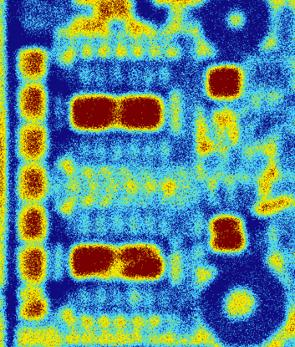Pad 1: (70, 94, 117, 131), (119, 94, 164, 131), (117, 243, 163, 279), (70, 243, 115, 279), (205, 65, 244, 101), (209, 214, 244, 252)
Pad 2: (18, 123, 47, 160), (18, 247, 46, 284), (18, 166, 47, 201), (19, 206, 46, 242), (19, 85, 46, 120), (19, 287, 47, 320), (19, 49, 46, 79)
